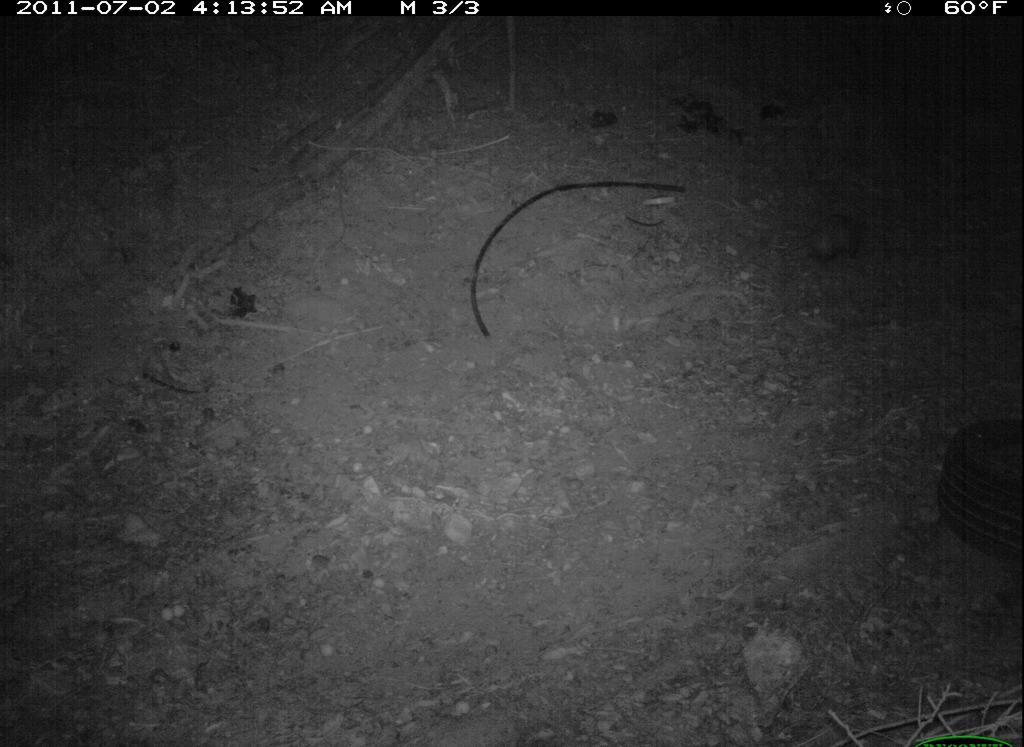opossum: (755, 210, 883, 273)
